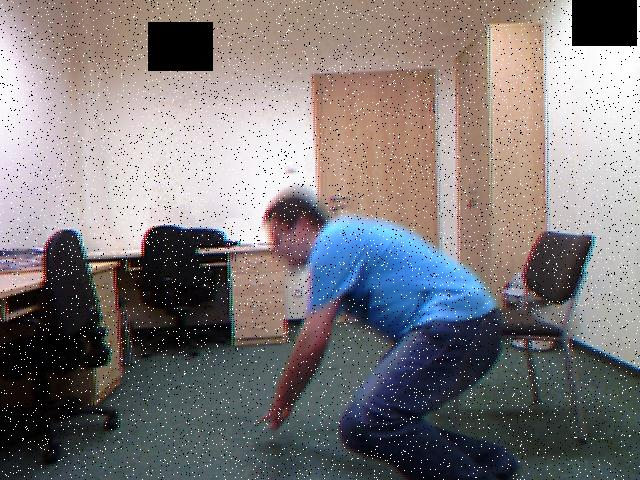near-fall: (240, 177, 534, 480)
